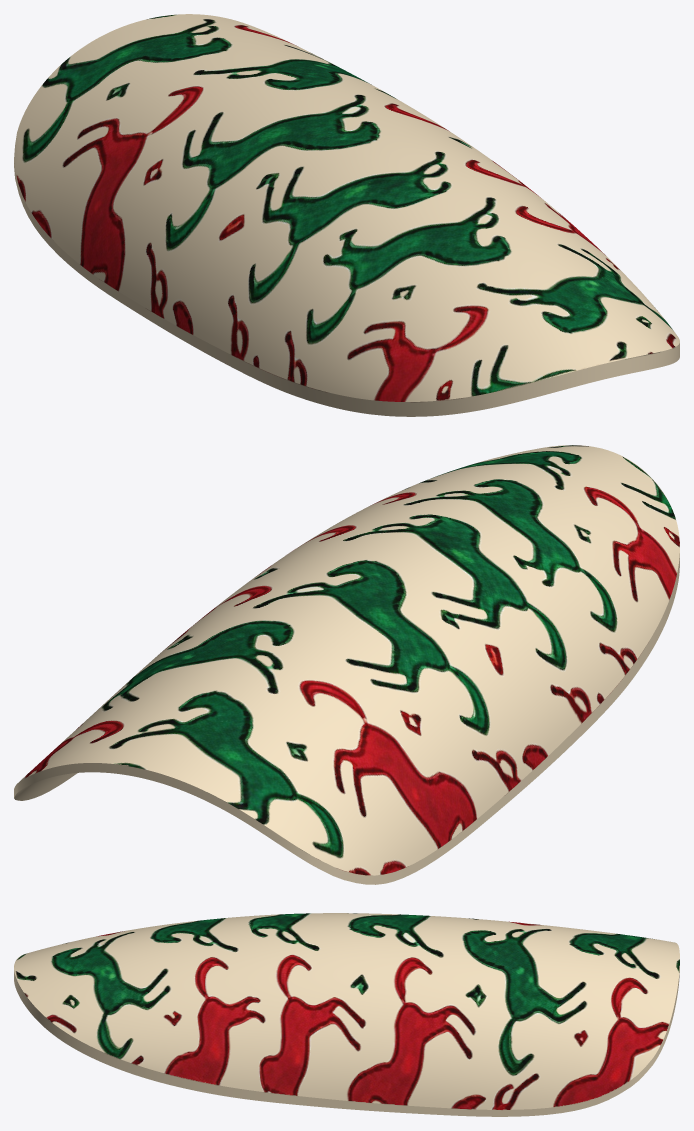
Rendered from MF_Xiao_ma_Wumingzhi_ty03.obj.
3 renders of one model, top to bottom at view 1: azimuth 30°, elevation 25°; view 2: azimuth 150°, elevation 25°; view 3: azimuth 270°, elevation 25°, orthographic. The views are drawn at different scales.
Parts seen in each view (by area): view 1: MF_Xiao_ma_Wumingzhi_ty03; view 2: MF_Xiao_ma_Wumingzhi_ty03; view 3: MF_Xiao_ma_Wumingzhi_ty03.
Boxes of the visible parts, bbox=[...] form: MF_Xiao_ma_Wumingzhi_ty03: bbox=[14, 14, 679, 416]; MF_Xiao_ma_Wumingzhi_ty03: bbox=[14, 445, 679, 884]; MF_Xiao_ma_Wumingzhi_ty03: bbox=[14, 913, 679, 1116].
Size of the model in its own units: 11.98 by 5.49 by 26.36.
Materials: 1 (1 with a texture image).
